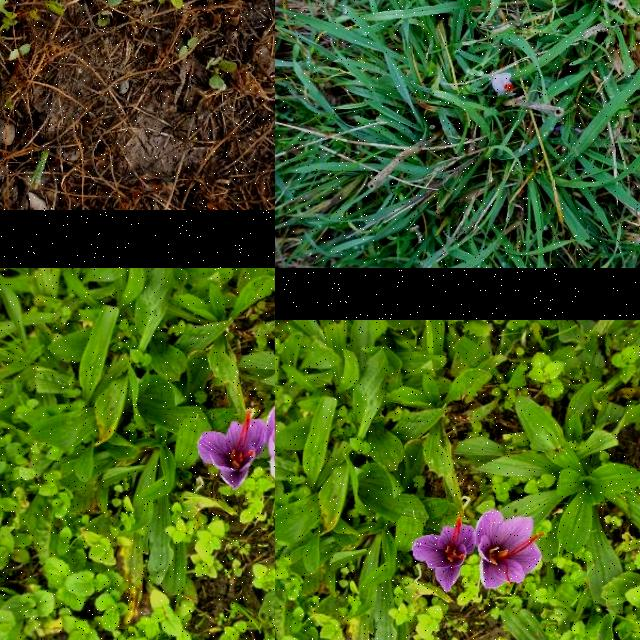flower: (475, 509, 547, 588), (198, 410, 268, 490), (412, 516, 476, 592), (492, 72, 512, 98)
